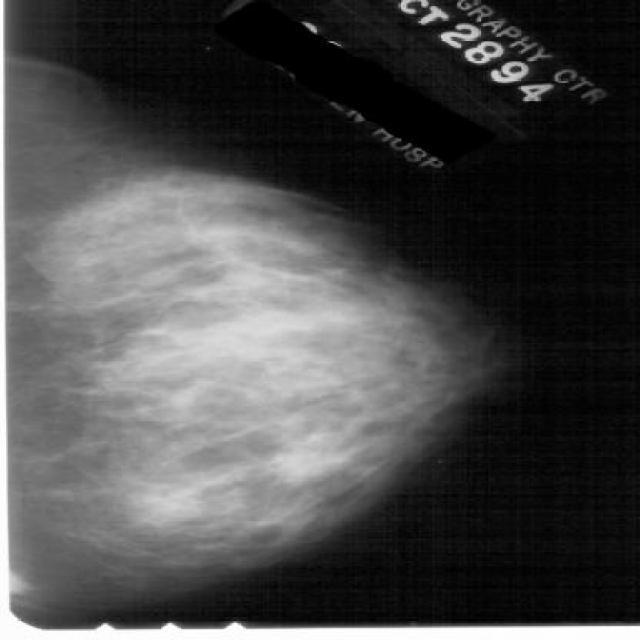tumor: (77, 198, 391, 466)
